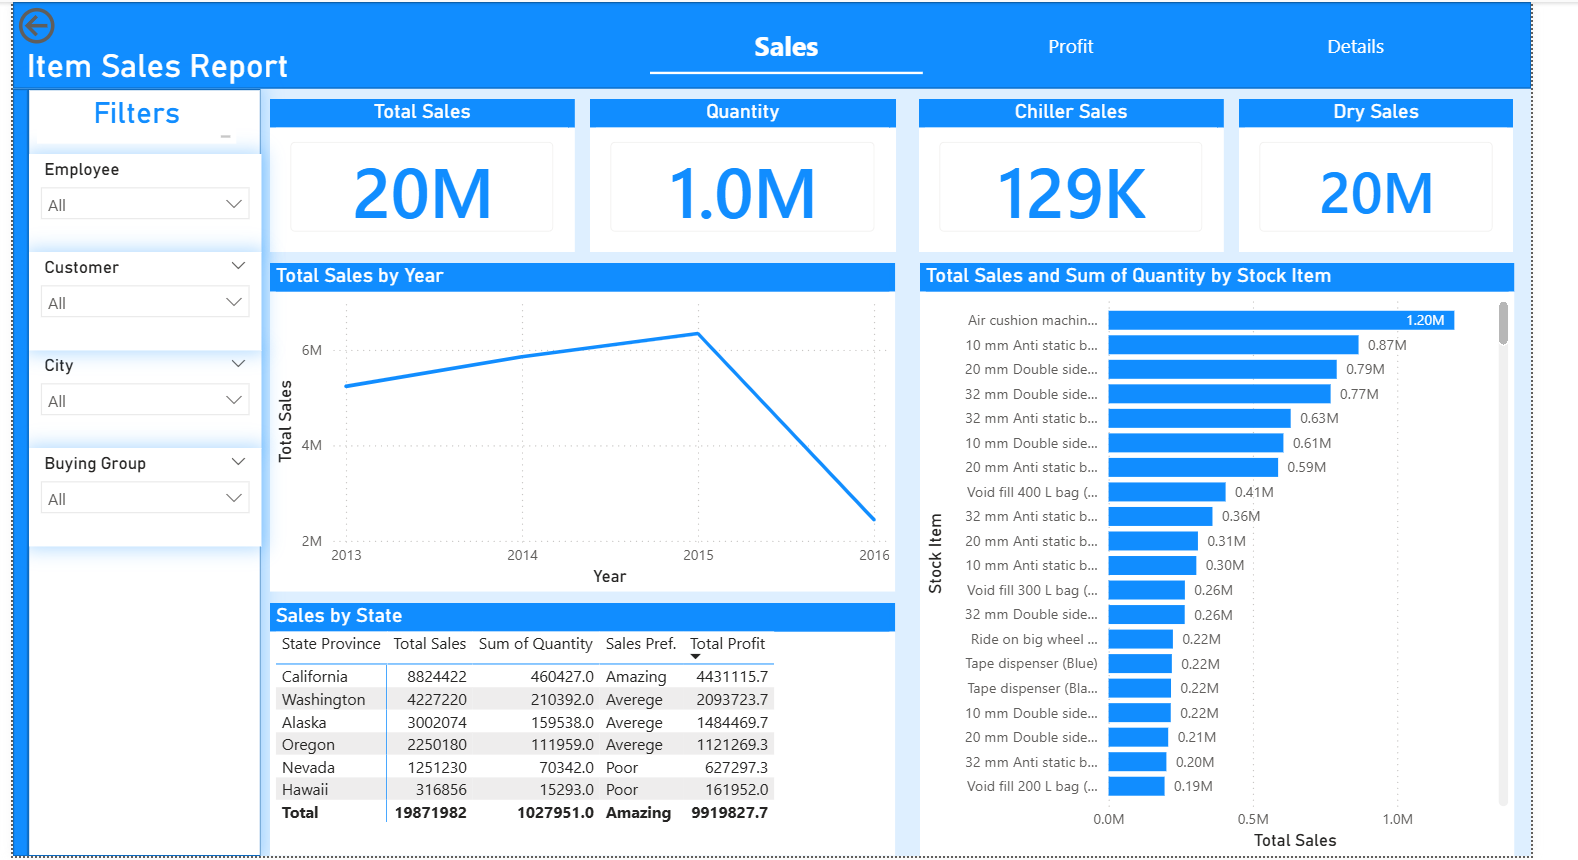

What the dashboard file says about the page in this screenshot:
{"tool":"powerbi","page":{"name":"Sales","canvas":[1280,720],"ordinal":0},"visuals":[{"type":"shape","box":[0,0,1280,73],"z":0},{"type":"shape","box":[0,73,12.6,646.8],"z":1000},{"type":"shape","box":[12.6,73,196.5,646.8],"z":2000},{"type":"cardVisual","title":"Total Sales","fields":{"Data":["Sum(FactSale.Total Excluding Tax)"]},"box":[216.9,81.7,256.8,129.4],"z":3000},{"type":"cardVisual","title":"Quantity","fields":{"Data":["Sum(FactSale.Quantity)"]},"box":[486.3,81.7,257.8,129.4],"z":4000},{"type":"cardVisual","title":"Chiller Sales","fields":{"Data":["Sum(FactSale.Chiller Sales)"]},"box":[764.2,81.7,256.8,129.4],"z":5000},{"type":"cardVisual","title":"Dry Sales","fields":{"Data":["FactSale.Dry Sales"]},"box":[1033.9,81.7,231.5,129.4],"z":6000},{"type":"lineChart","fields":{"Category":["DimDate.Date.Variation.Date Hierarchy.Year","DimDate.Date.Variation.Date Hierarchy.Quarter","DimDate.Date.Variation.Date Hierarchy.Month","DimDate.Date.Variation.Date Hierarchy.Day"],"Y":["Sum(FactSale.Total Excluding Tax)"]},"box":[216.9,219.8,527.2,277.2],"z":7000},{"type":"barChart","fields":{"Y":["Sum(FactSale.Total Excluding Tax)"],"Category":["DimStock Item.Stock Item"]},"box":[764.5,219.8,500.9,499.9],"z":8000},{"type":"pivotTable","title":"Sales by State","fields":{"Values":["Sum(FactSale.Total Excluding Tax)","Sum(FactSale.Quantity)","FactSale.Measure","Sum(FactSale.Profit)"],"Rows":["DimCity.State Province"]},"box":[216.9,506.8,527.2,213],"z":9000},{"type":"actionButton","box":[0,0,100,40],"z":10000},{"type":"slicer","fields":{"Values":["DimEmployee.Employee"]},"box":[13.6,128.4,195.5,82.7],"z":11000},{"type":"textbox","title":"Filters","box":[20.4,78.8,168.3,40.9],"z":12000},{"type":"slicer","fields":{"Values":["DimCity.City"]},"box":[13.6,293.7,195.5,82.7],"z":13000},{"type":"slicer","fields":{"Values":["DimCustomers.Customer"]},"box":[13.6,211.1,195.5,82.7],"z":14000},{"type":"slicer","fields":{"Values":["DimCustomers.Buying Group"]},"box":[13.6,376.4,195.5,82.7],"z":15000},{"type":"textbox","title":"Item Sales Report","box":[6.8,37,255.8,35],"z":17000},{"type":"pageNavigator","box":[536.9,11.7,711,49.6],"z":18000}]}

Visuals, with their boxes on the page's 1280x720 design canvas (x1, y1, x2, y2). These are canvas units, not pixel positions in the 1578x860 screenshot, which may show the page scaled, cropped or inside an application window:
shape: bbox=[0, 0, 1280, 73]
shape: bbox=[0, 73, 13, 720]
shape: bbox=[13, 73, 209, 720]
"Total Sales" cardVisual: bbox=[217, 82, 474, 211]
"Quantity" cardVisual: bbox=[486, 82, 744, 211]
"Chiller Sales" cardVisual: bbox=[764, 82, 1021, 211]
"Dry Sales" cardVisual: bbox=[1034, 82, 1265, 211]
lineChart - DimDate.Date.Variation.Date Hierarchy.Year x DimDate.Date.Variation.Date Hierarchy.Quarter: bbox=[217, 220, 744, 497]
barChart - Sum(FactSale.Total Excluding Tax) x DimStock Item.Stock Item: bbox=[764, 220, 1265, 720]
"Sales by State" pivotTable: bbox=[217, 507, 744, 720]
actionButton: bbox=[0, 0, 100, 40]
slicer - DimEmployee.Employee: bbox=[14, 128, 209, 211]
"Filters" textbox: bbox=[20, 79, 189, 120]
slicer - DimCity.City: bbox=[14, 294, 209, 376]
slicer - DimCustomers.Customer: bbox=[14, 211, 209, 294]
slicer - DimCustomers.Buying Group: bbox=[14, 376, 209, 459]
"Item Sales Report" textbox: bbox=[7, 37, 263, 72]
pageNavigator: bbox=[537, 12, 1248, 61]
